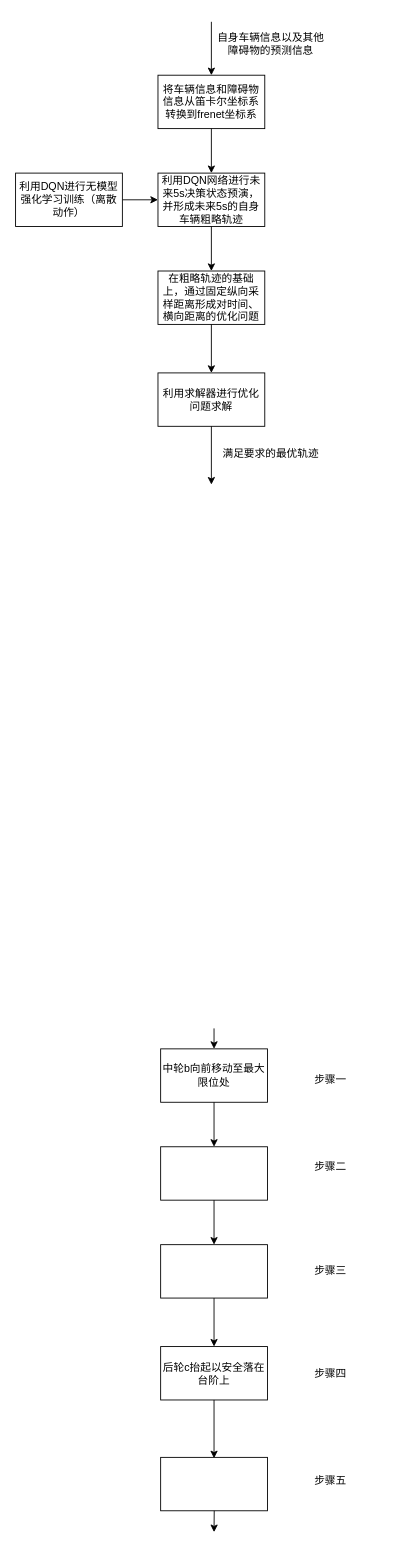
Some shapes in this 402 by 1555 pixel diagram are drawn without their labels. The shapes that lost their labels are listed below. From the top down, each one's box as (x1, y1, x2, y2) in pixels, then its label:
(160, 1146, 267, 1200): 前轮a抬起并安全落在台阶上
(160, 1244, 267, 1298): 中轮b抬起并向后移动至最大限位处
(160, 1456, 267, 1511): 中轮b移动到中间位置，恢复行驶状态
